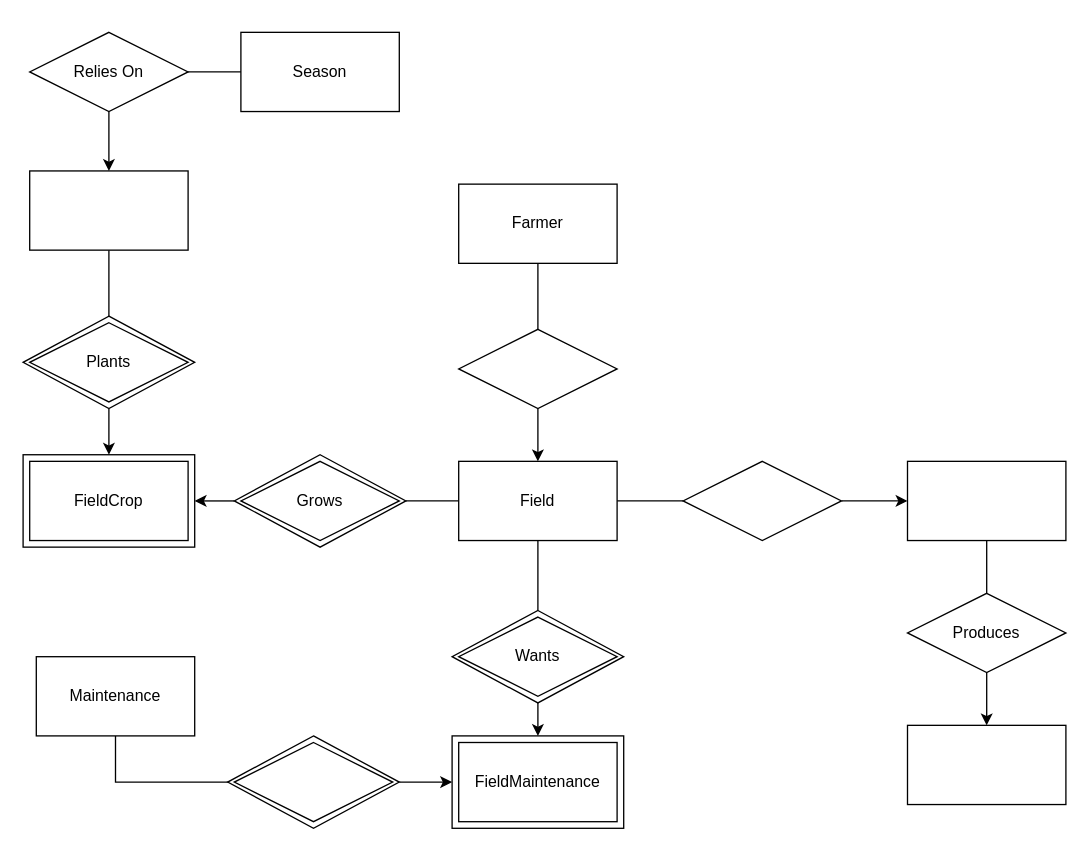
Some shapes in this 1089 by 851 pixel diagram are drawn without their labels. Here are the shapes that lost their labels. From the top down, the centre of each, then its label:
At point 108,210: "Crop".
At point 537,368: "Owns".
At point 762,500: "Has".
At point 986,500: "SoilType".
At point 313,781: "Needs".
At point 986,764: "SoilSample".
